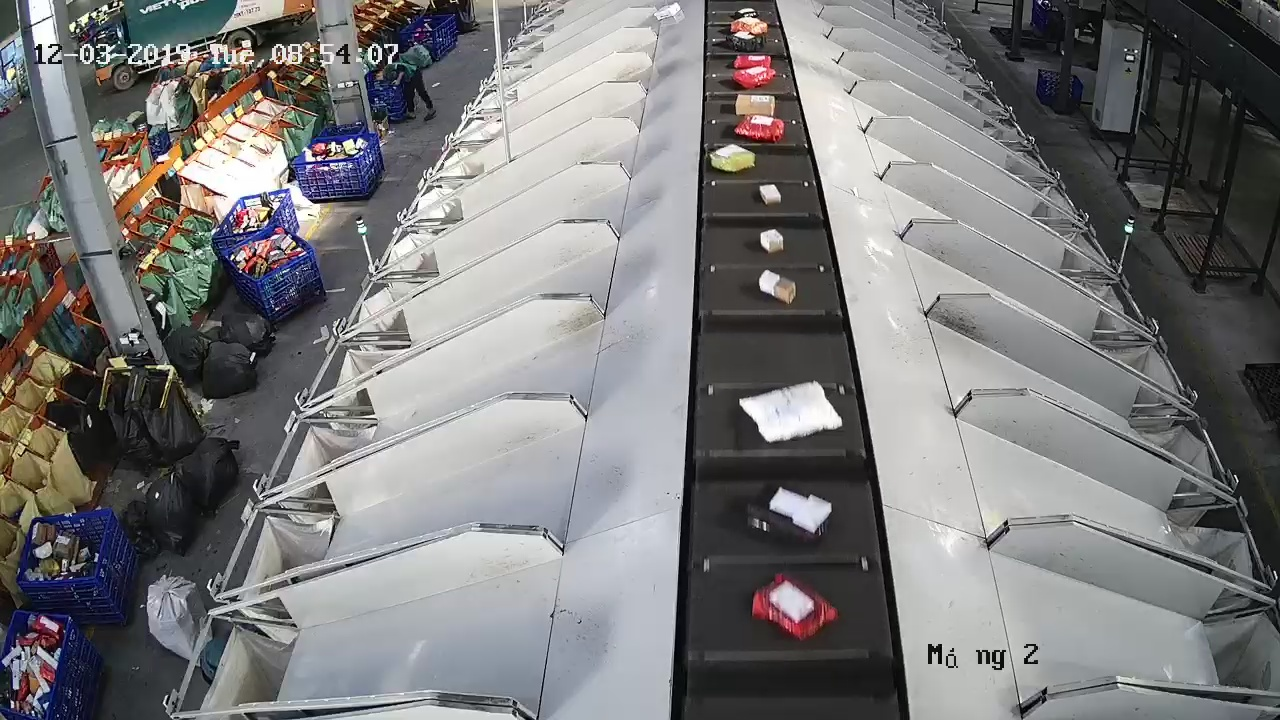parcel: (737, 378, 844, 443), (749, 570, 841, 644), (744, 481, 835, 550), (708, 142, 758, 174), (757, 268, 798, 306), (758, 227, 785, 256), (758, 181, 783, 207)
